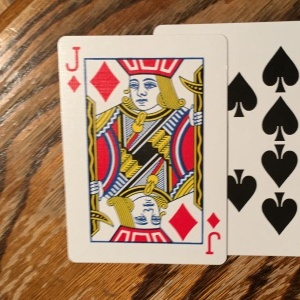card: (57, 34, 228, 266)
